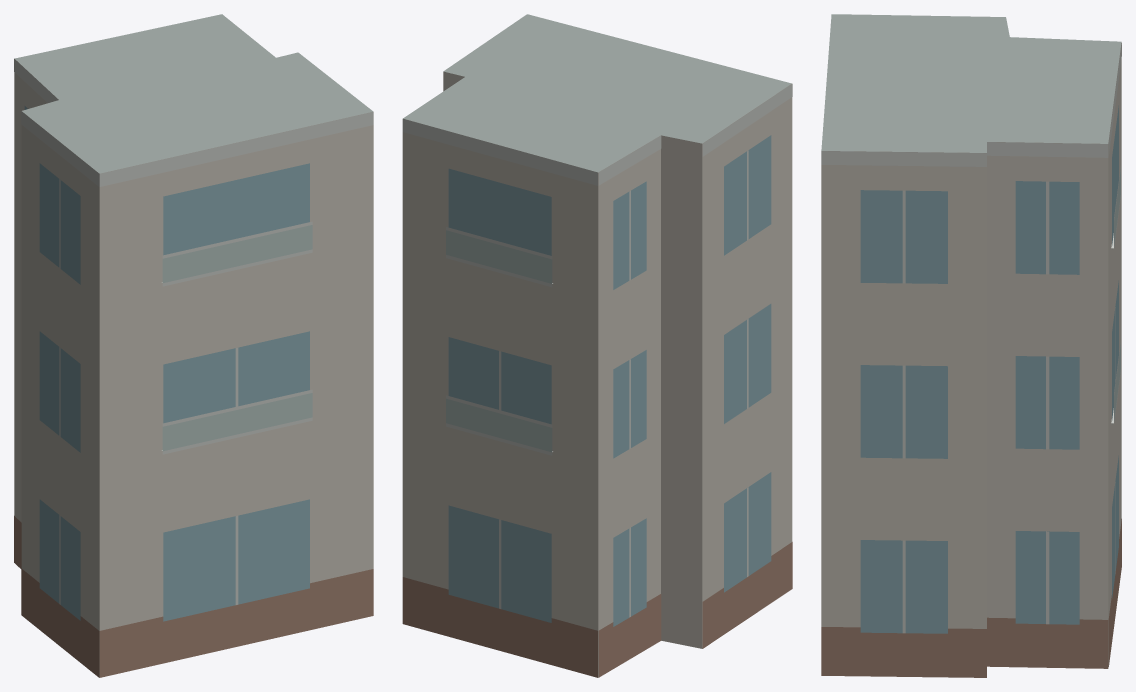
File: survey-upis-32833147.glb
3 renders of one model, left to right at view 1: azimuth 30°, elevation 25°; view 2: azimuth 150°, elevation 25°; view 3: azimuth 270°, elevation 25°, orthographic. The views are drawn at different scales.
Visible parts, largest first — view 1: survey-upis-32833147.tmp; view 2: survey-upis-32833147.tmp; view 3: survey-upis-32833147.tmp.
Part boxes in pixels (x1,y1,x2,y2): survey-upis-32833147.tmp: (14, 14, 373, 677); survey-upis-32833147.tmp: (402, 14, 792, 677); survey-upis-32833147.tmp: (821, 14, 1121, 677).
Size of the model in its own units: 5.21 by 9.15 by 4.76.
